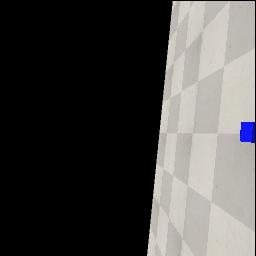box: (240, 121, 255, 143)
